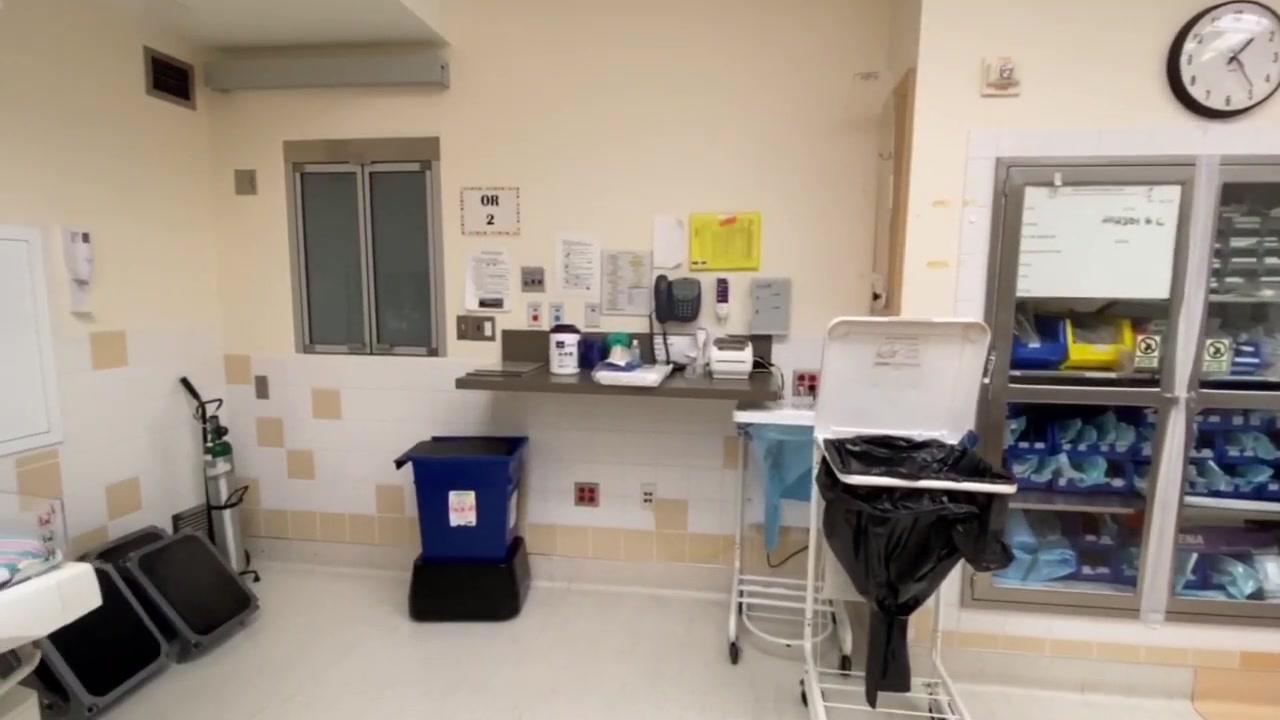cabinet: (958, 156, 1280, 635)
countertop: (452, 363, 783, 400)
dispenser: (66, 222, 101, 314)
handle: (347, 342, 367, 352), (375, 344, 396, 353)
telephone: (653, 273, 704, 325)
waste_bin: (821, 429, 993, 696), (726, 405, 855, 681), (393, 431, 532, 621)
